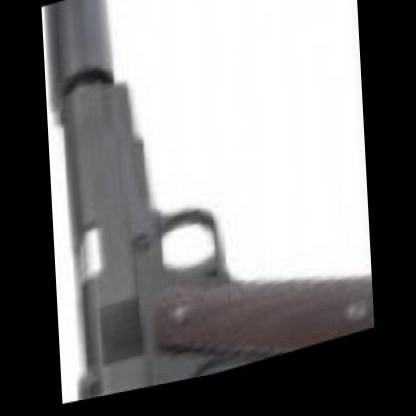pistol: (41, 0, 371, 408)
